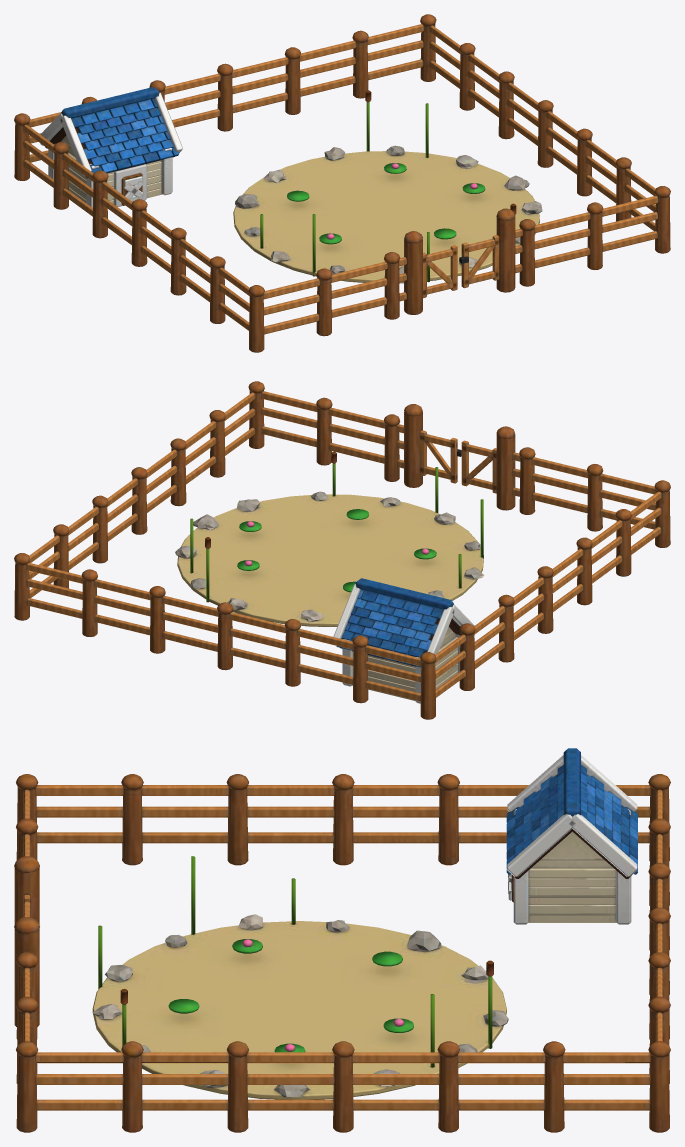
The model's file is duck_pond.glb.
The picture shows the model from 3 angles, top to bottom: view 1: azimuth 30°, elevation 25°; view 2: azimuth 150°, elevation 25°; view 3: azimuth 270°, elevation 25°; orthographic projection. The views are drawn at different scales.
Visible parts, largest first — view 1: duck_pond, gate1, gate0; view 2: duck_pond, gate1, gate0; view 3: duck_pond.
Part boxes in pixels (bbox=[...]): duck_pond: bbox=[14, 14, 670, 352]; gate1: bbox=[459, 235, 499, 288]; gate0: bbox=[423, 245, 457, 298]; duck_pond: bbox=[14, 381, 670, 719]; gate1: bbox=[420, 430, 461, 483]; gate0: bbox=[461, 440, 496, 493]; duck_pond: bbox=[14, 748, 670, 1132].
Size of the model in its own units: 3 by 0.615 by 3.01.
Materials: 1 (1 with a texture image).
